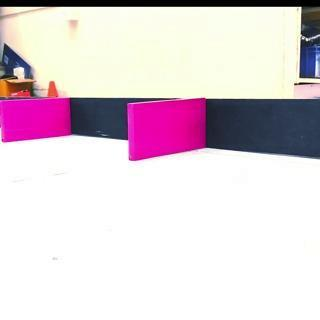xparking: (128, 104, 206, 150), (1, 101, 70, 136)
